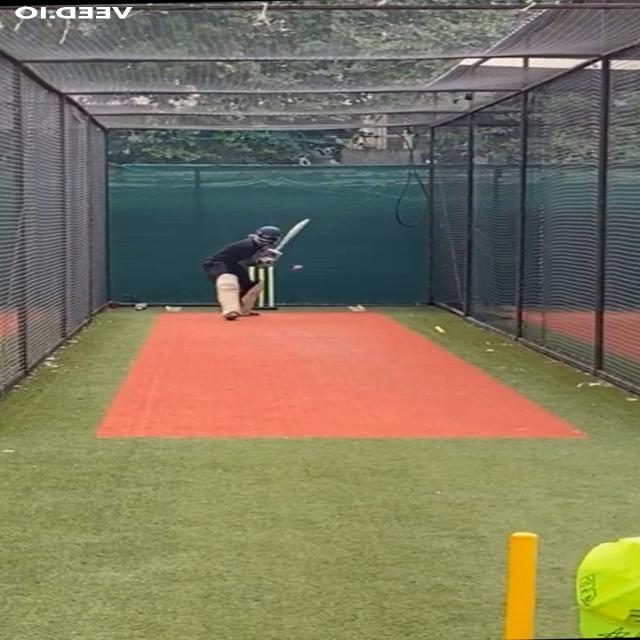ball: (290, 263, 306, 272)
stump: (247, 266, 277, 312)
